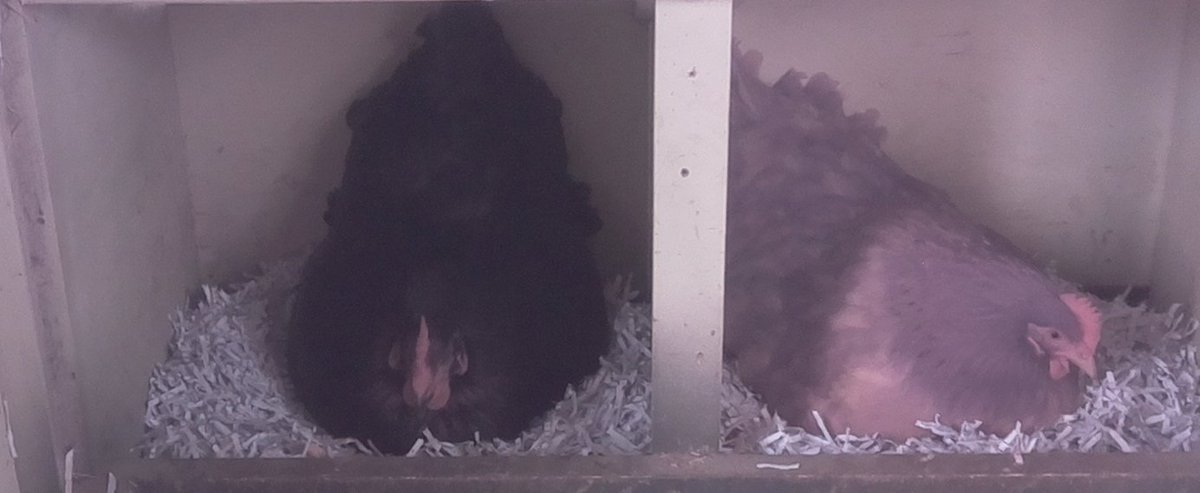hen: (279, 8, 622, 450), (732, 54, 1109, 446)
